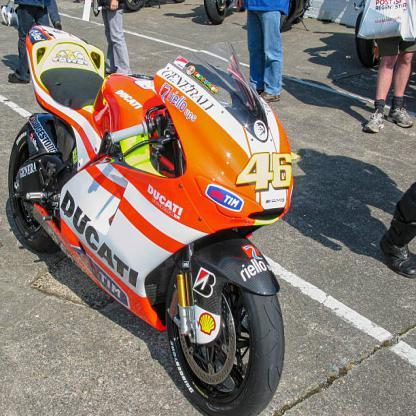Motorcycle: (3, 8, 299, 415)
